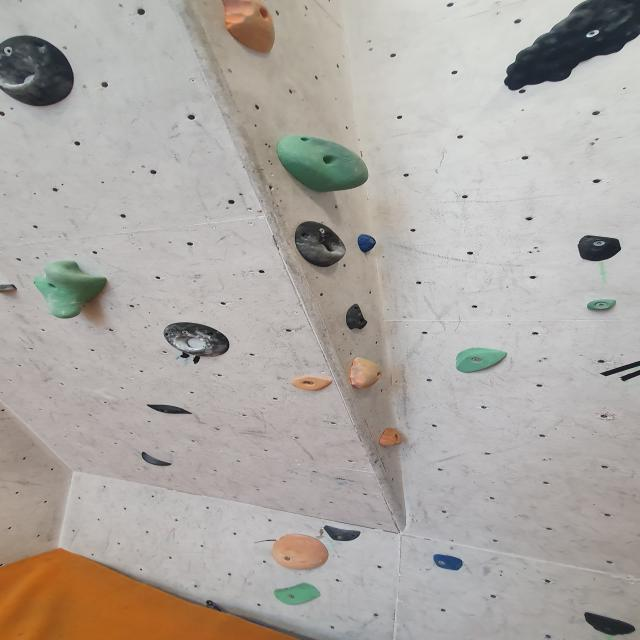Crimp: (452, 344, 510, 374), (290, 375, 336, 393), (374, 425, 407, 449), (430, 553, 467, 572), (584, 300, 619, 314)
Jug: (496, 0, 639, 90), (30, 258, 111, 321)
Pinch: (222, 1, 279, 56), (344, 356, 384, 391), (273, 581, 324, 607), (0, 282, 18, 294)
Pocket: (0, 32, 87, 108), (157, 320, 241, 360), (293, 222, 348, 270)
Sloper: (272, 137, 372, 198), (270, 532, 331, 572)
